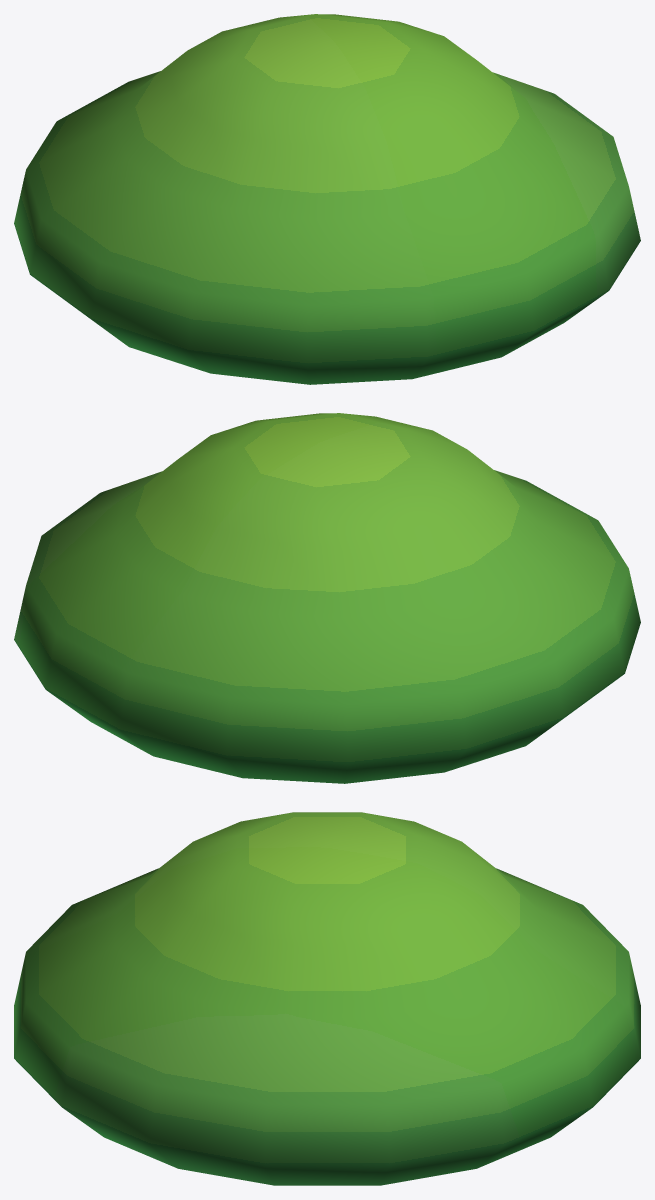
File: Bush_3_A_Color1.glb
3 views of the same model, one above another, from view 1: azimuth 30°, elevation 25°; view 2: azimuth 150°, elevation 25°; view 3: azimuth 270°, elevation 25° (orthographic).
Visible parts, largest first — view 1: Bush_3_A_Color1; view 2: Bush_3_A_Color1; view 3: Bush_3_A_Color1.
Boxes of the visible parts, x1=… form: Bush_3_A_Color1: x1=14, y1=14, x2=640, y2=384; Bush_3_A_Color1: x1=14, y1=413, x2=640, y2=783; Bush_3_A_Color1: x1=14, y1=812, x2=640, y2=1185.
Size of the model in its own units: 1.03 by 0.4853 by 1.03.
1 material, 1 textured.
